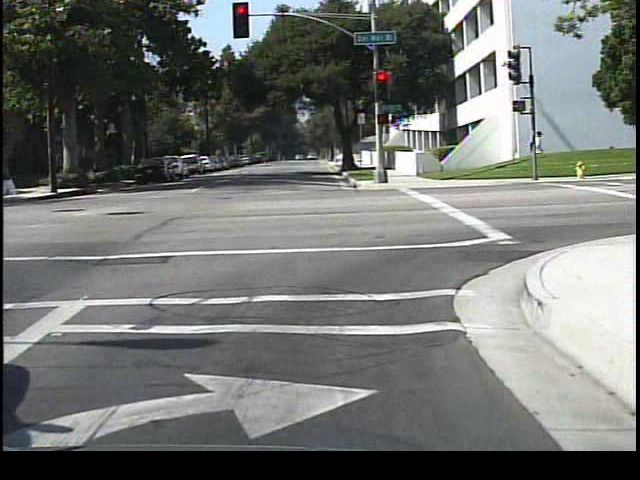person: (521, 127, 545, 175)
